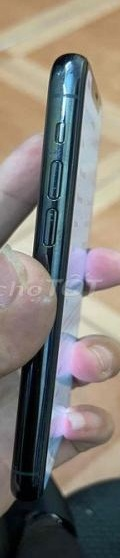scratch: (30, 101, 88, 276)
